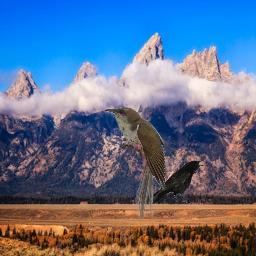Crow: (151, 159, 205, 205)
Cuckoo: (104, 106, 165, 218)
